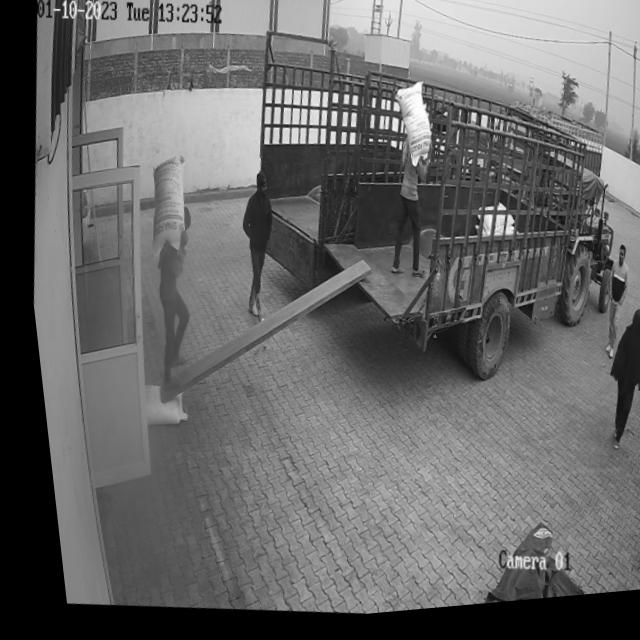sack: (136, 153, 189, 263), (382, 83, 435, 174), (130, 382, 180, 432)
